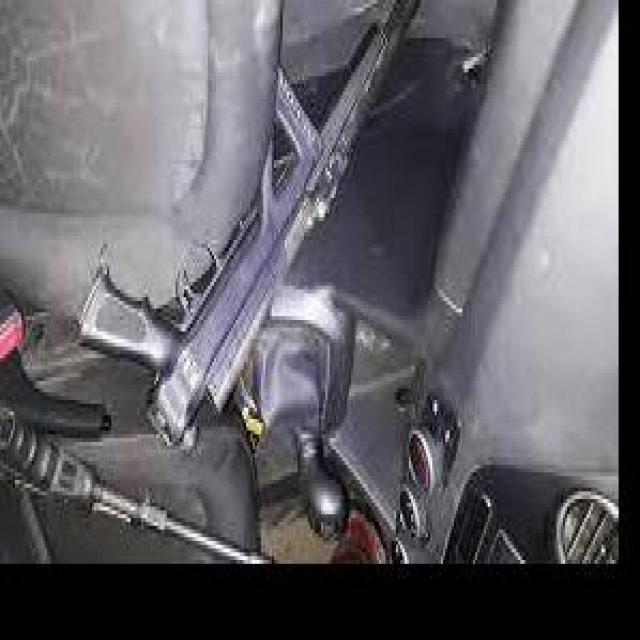weapon: (80, 0, 420, 455)
